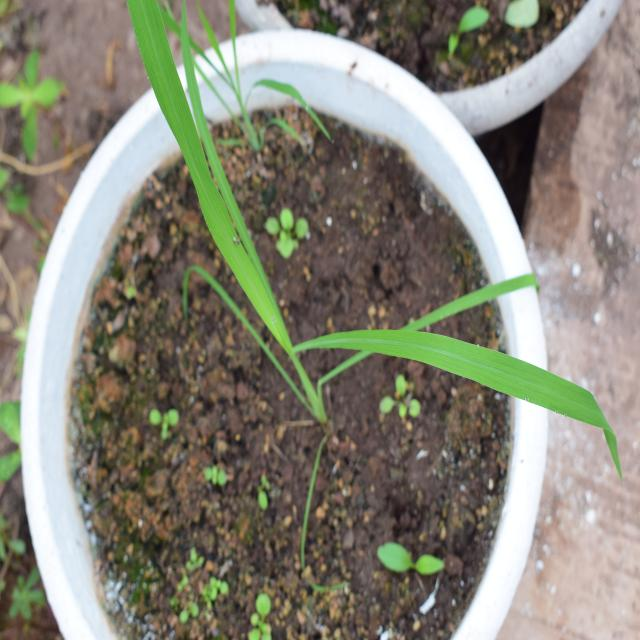barnyard_grass: (121, 18, 605, 458)
